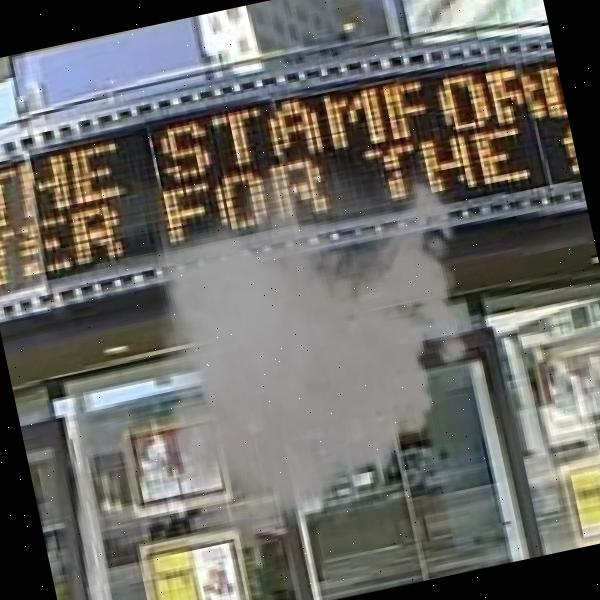smoke: (105, 112, 522, 565)
